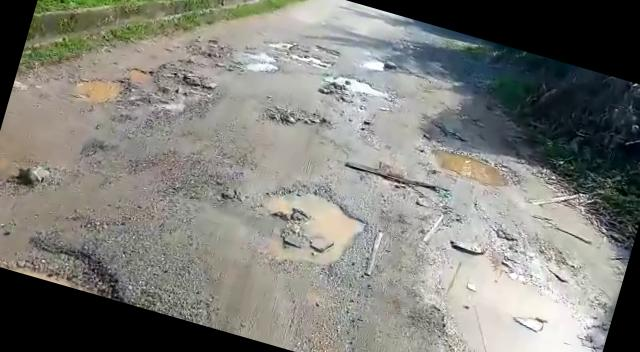pothole: (400, 247, 617, 352), (252, 176, 378, 278), (0, 225, 141, 303), (342, 157, 462, 208), (125, 50, 222, 110), (424, 140, 525, 196), (256, 97, 334, 138), (322, 68, 396, 104), (69, 68, 127, 112), (241, 47, 284, 78)
